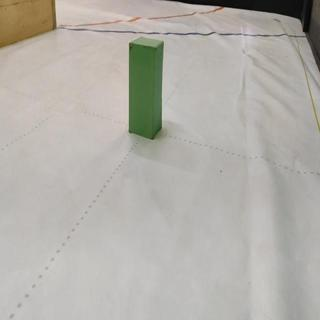greenbox: (128, 35, 166, 139)
